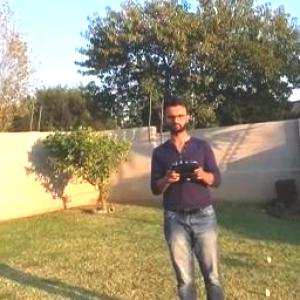follow: (146, 92, 228, 298)
